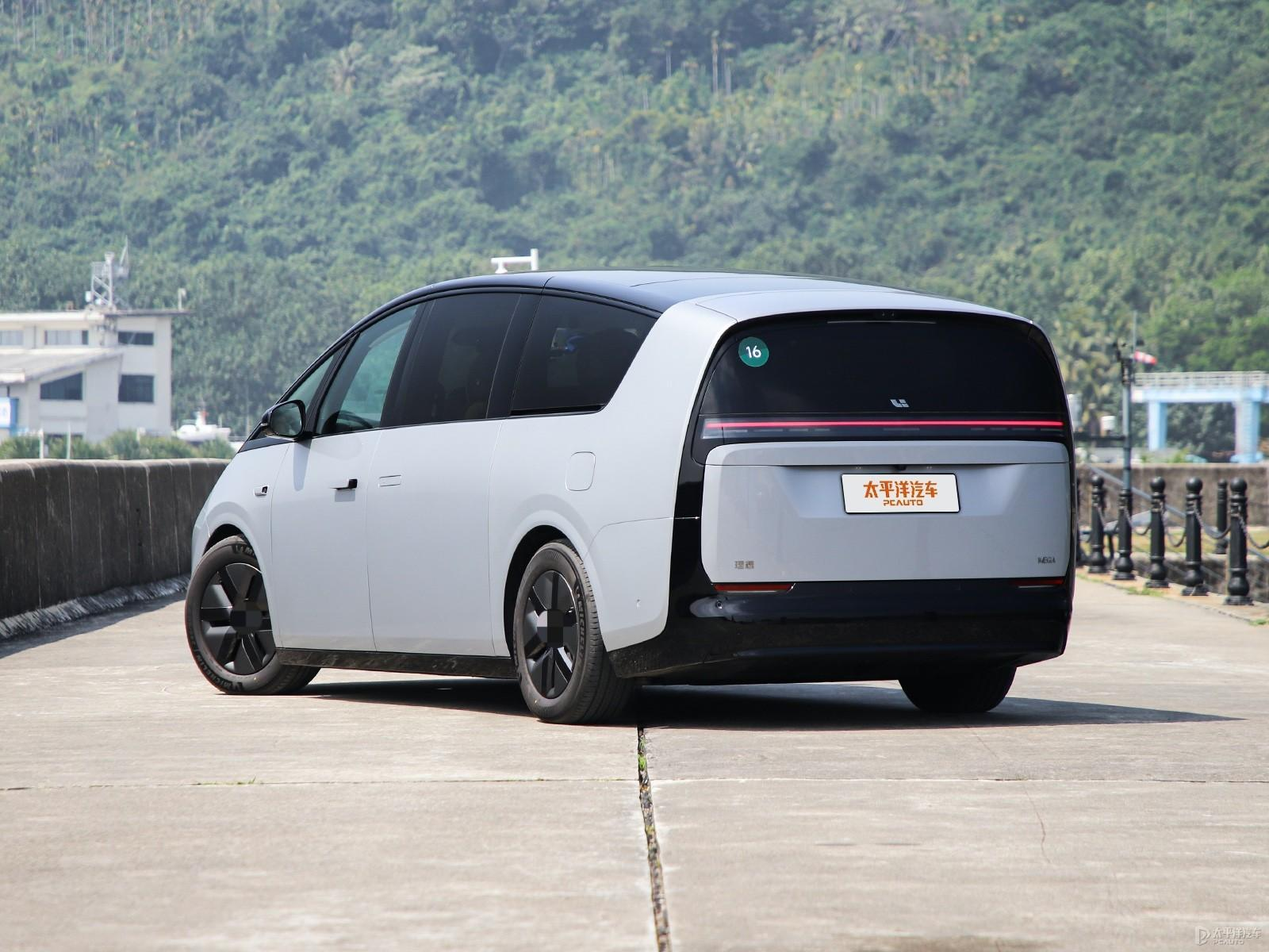Li Auto: (889, 398, 910, 409)
